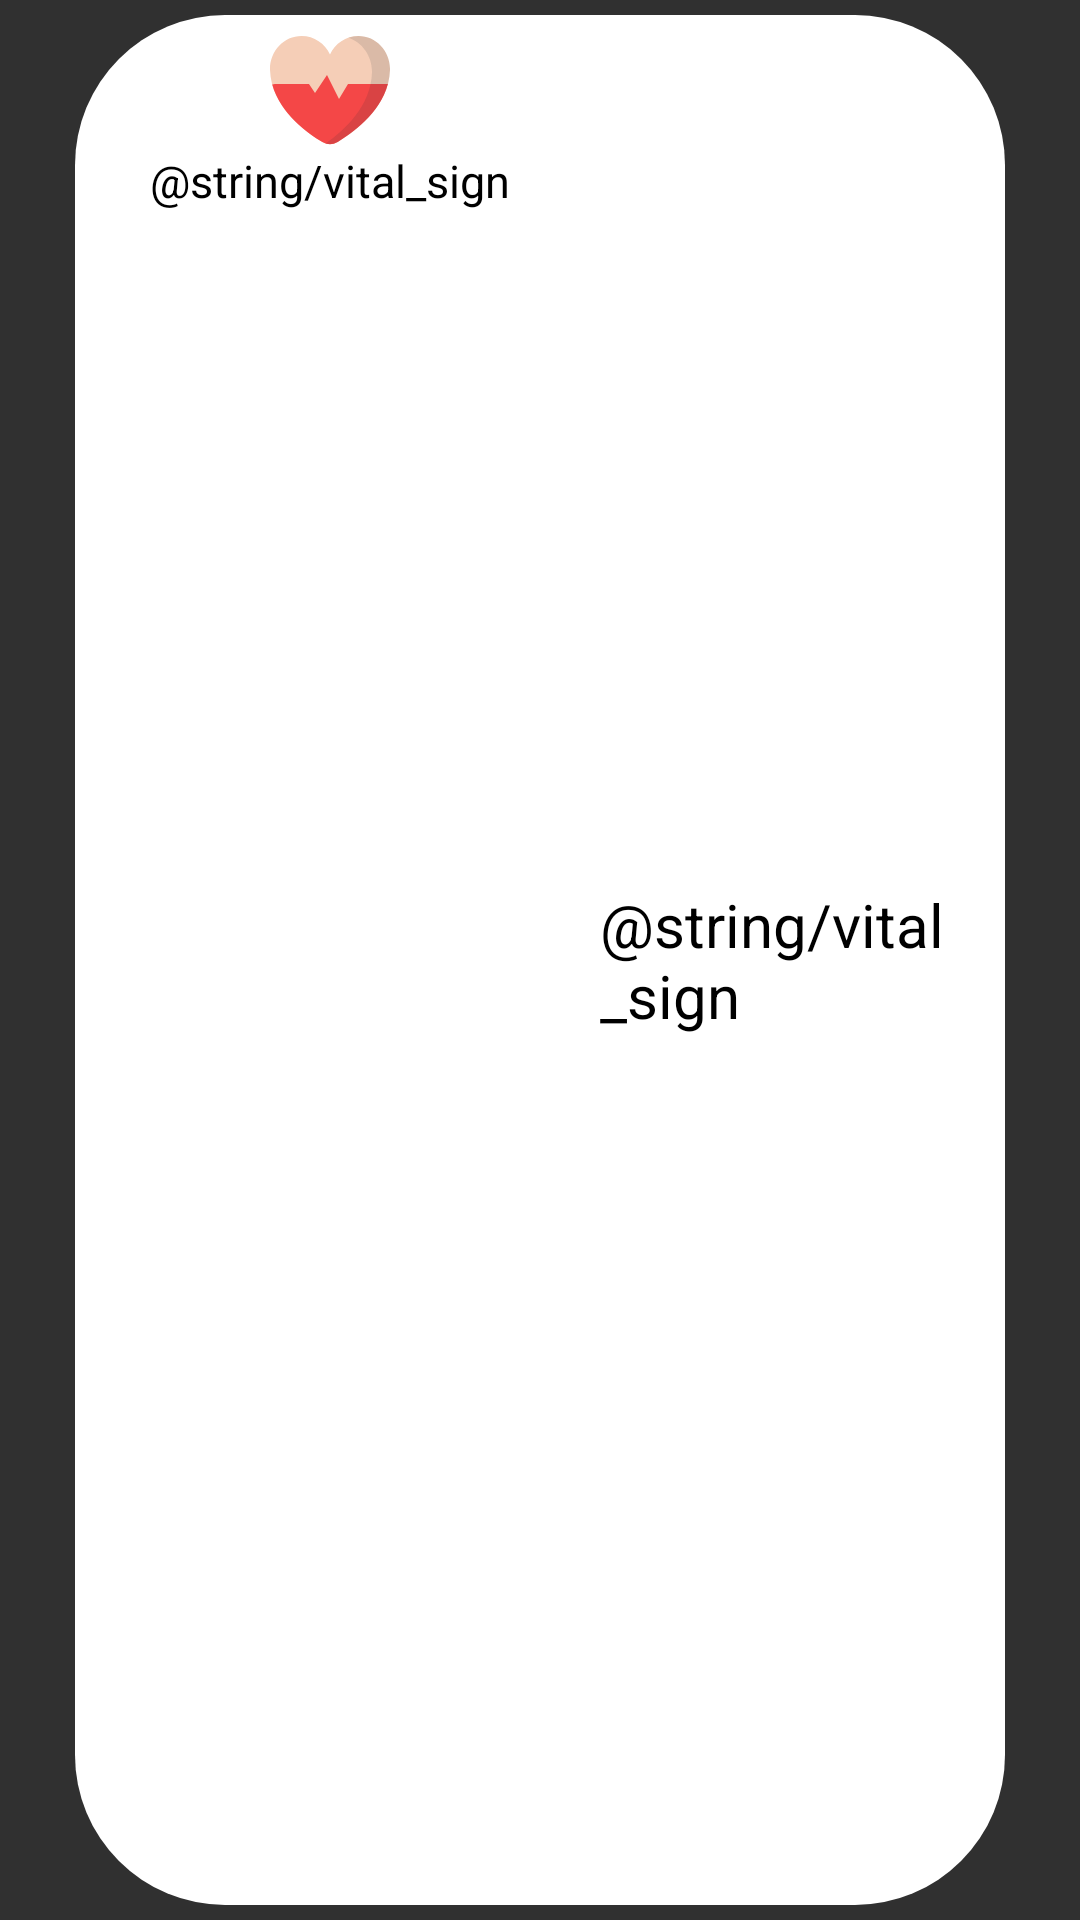

Where icons sit on this 1080 × 1920 app screen, as BBox(x1, y1, x2, y2):
heart: BBox(270, 36, 390, 145)
